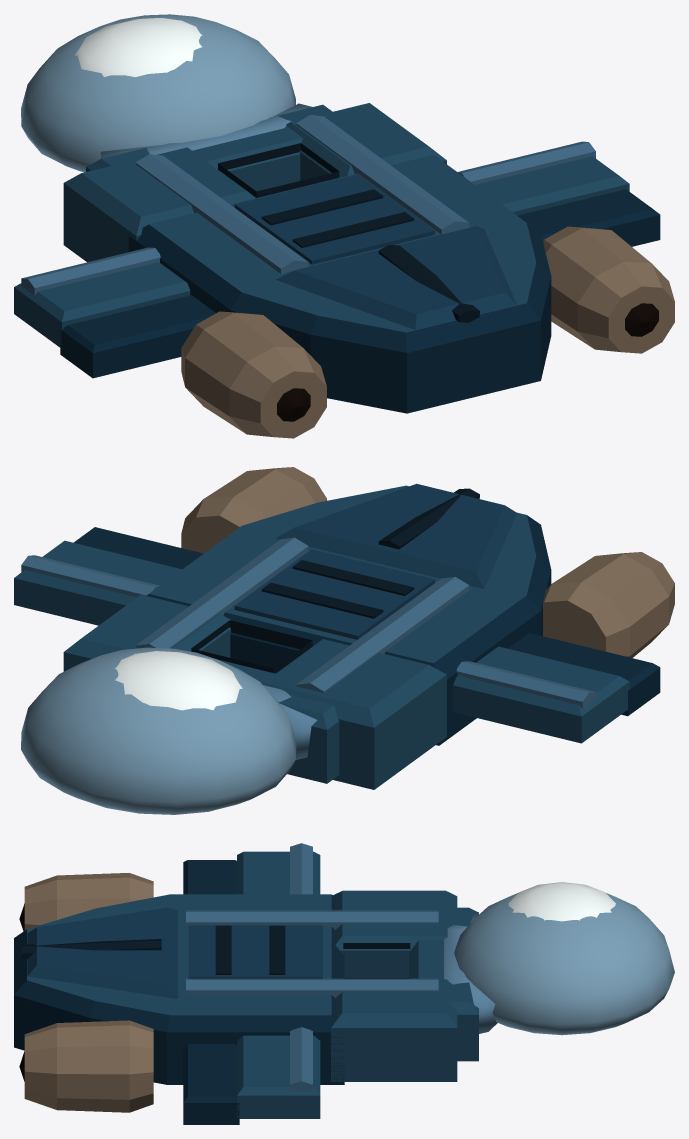
Rendered from newshg-201.glb.
3 views of the same model, one above another, from view 1: azimuth 30°, elevation 25°; view 2: azimuth 150°, elevation 25°; view 3: azimuth 270°, elevation 25° (orthographic). The views are drawn at different scales.
Parts seen in each view (by area): view 1: newshg-201_body, newshg-201; view 2: newshg-201_body, newshg-201; view 3: newshg-201_body, newshg-201.
Boxes of the visible parts, x1,y1,x2,y2 form: newshg-201_body: [14, 103, 674, 438]; newshg-201: [21, 14, 311, 172]; newshg-201_body: [14, 467, 674, 789]; newshg-201: [21, 647, 317, 814]; newshg-201_body: [14, 843, 478, 1124]; newshg-201: [444, 882, 674, 1035].
Bounding box in the file's own units: 1.77 × 0.4667 × 2.05.
